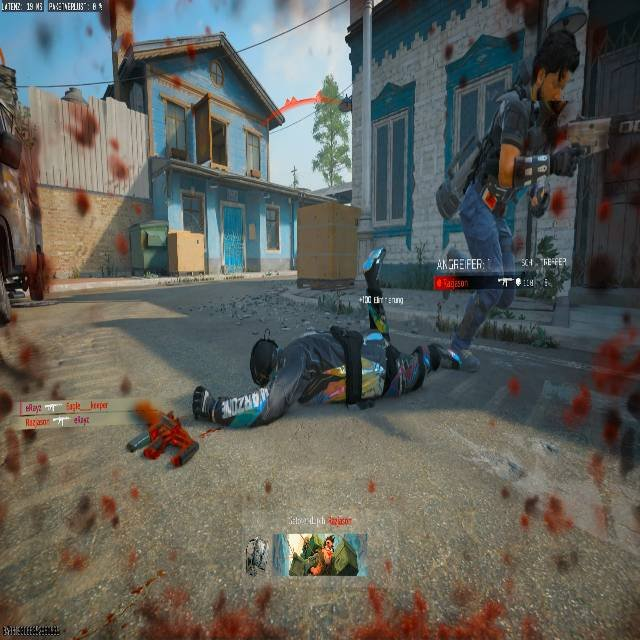head: (532, 31, 581, 102)
player: (438, 29, 589, 368)
